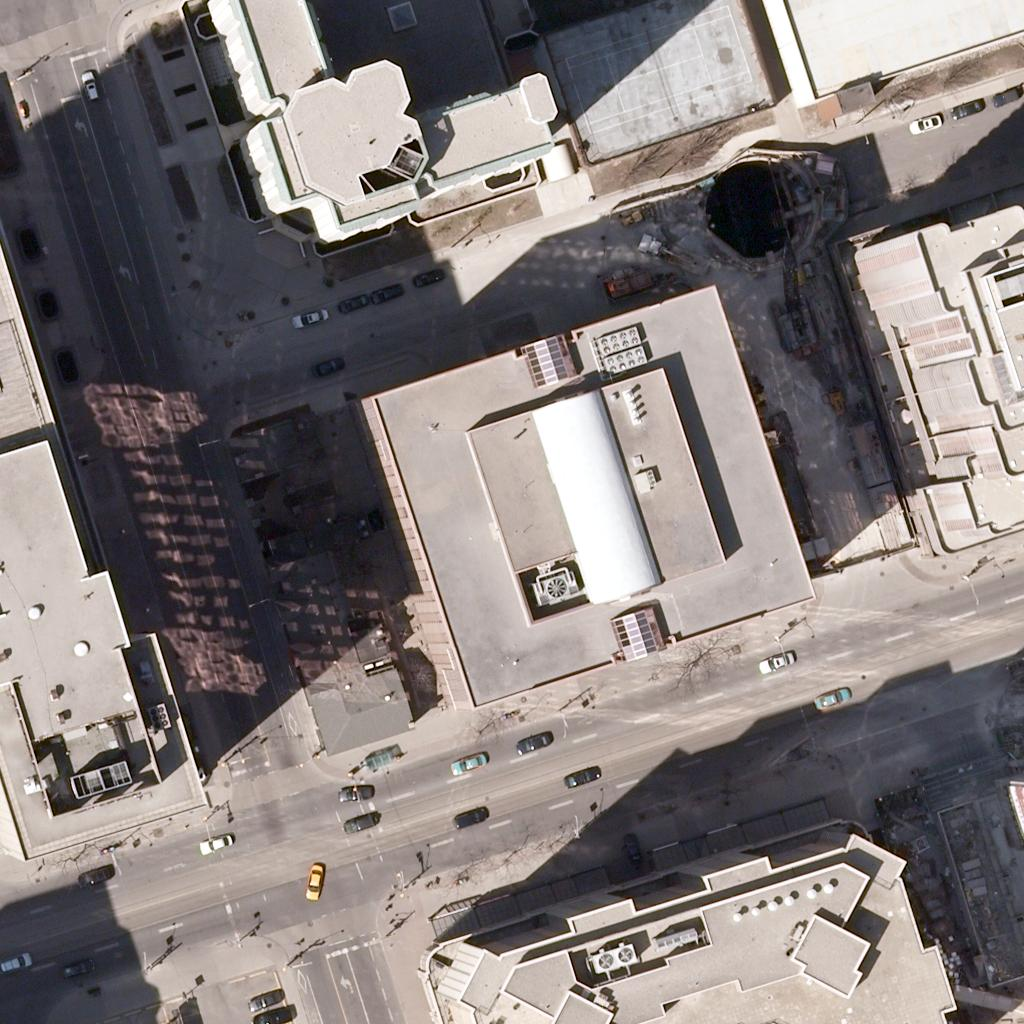car: (73, 71, 107, 105), (984, 81, 1018, 115), (948, 92, 982, 126), (909, 106, 943, 140), (408, 259, 442, 293), (370, 277, 404, 311), (370, 278, 404, 312), (337, 285, 371, 319), (292, 299, 326, 333), (307, 347, 341, 381), (760, 644, 794, 678), (814, 680, 848, 714), (518, 724, 552, 758), (452, 743, 486, 777), (562, 758, 596, 792), (337, 775, 371, 809), (454, 798, 488, 832), (344, 804, 378, 838), (199, 825, 233, 859), (616, 830, 650, 864), (77, 856, 111, 890), (296, 862, 330, 896), (58, 949, 92, 983), (248, 982, 282, 1016), (0, 944, 26, 978), (254, 999, 288, 1024)
